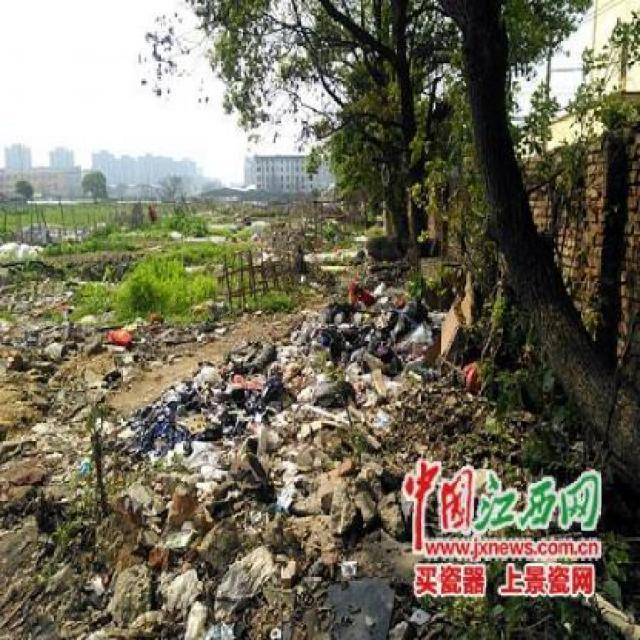garbage: (63, 503, 380, 638), (226, 266, 483, 409), (112, 386, 380, 516), (0, 293, 192, 439), (403, 379, 488, 446), (0, 259, 93, 308)
